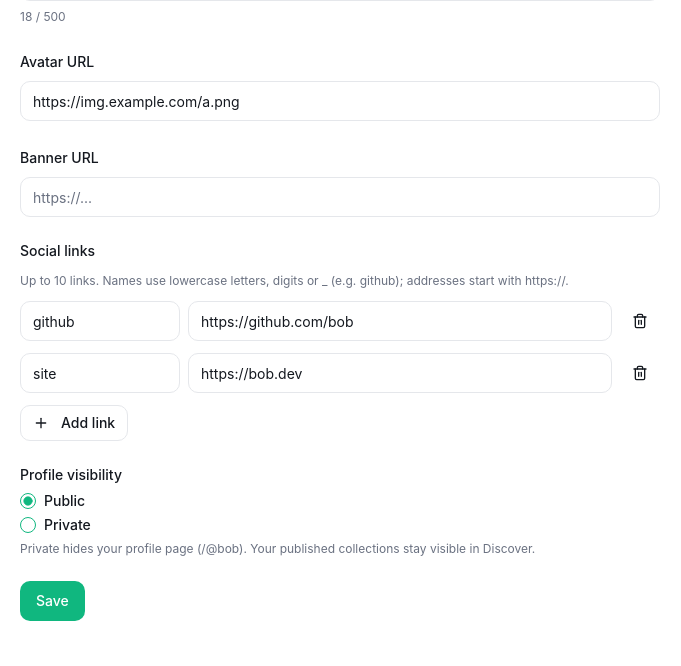
Test case: server errors › 9: a known 400 message is shown under its field
(page scrolled)
Click the button "Save" at (52, 601), box [20, 581, 85, 621]
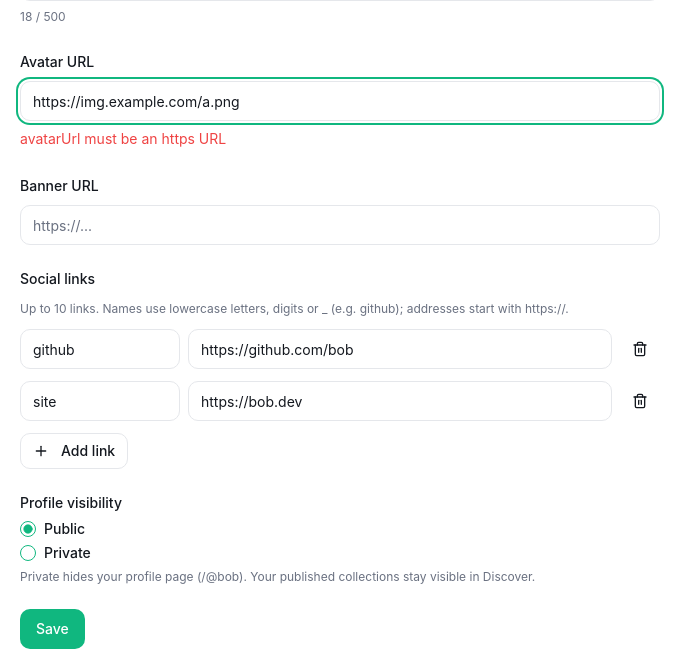
Check: the text "avatarUrl must be an https URL" is shown, box [20, 130, 226, 147]
